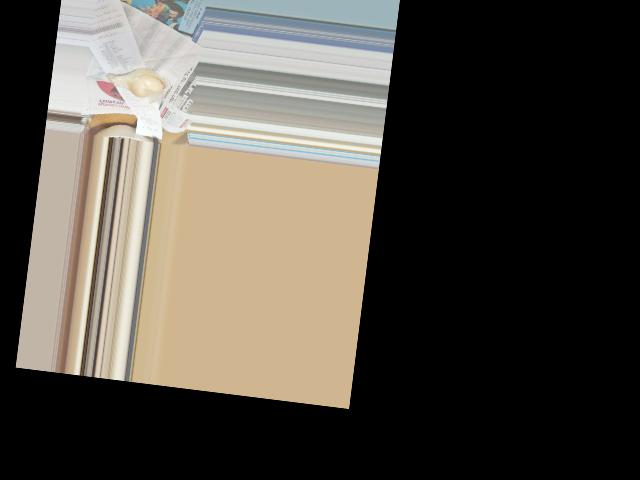onion: (111, 63, 165, 97)
